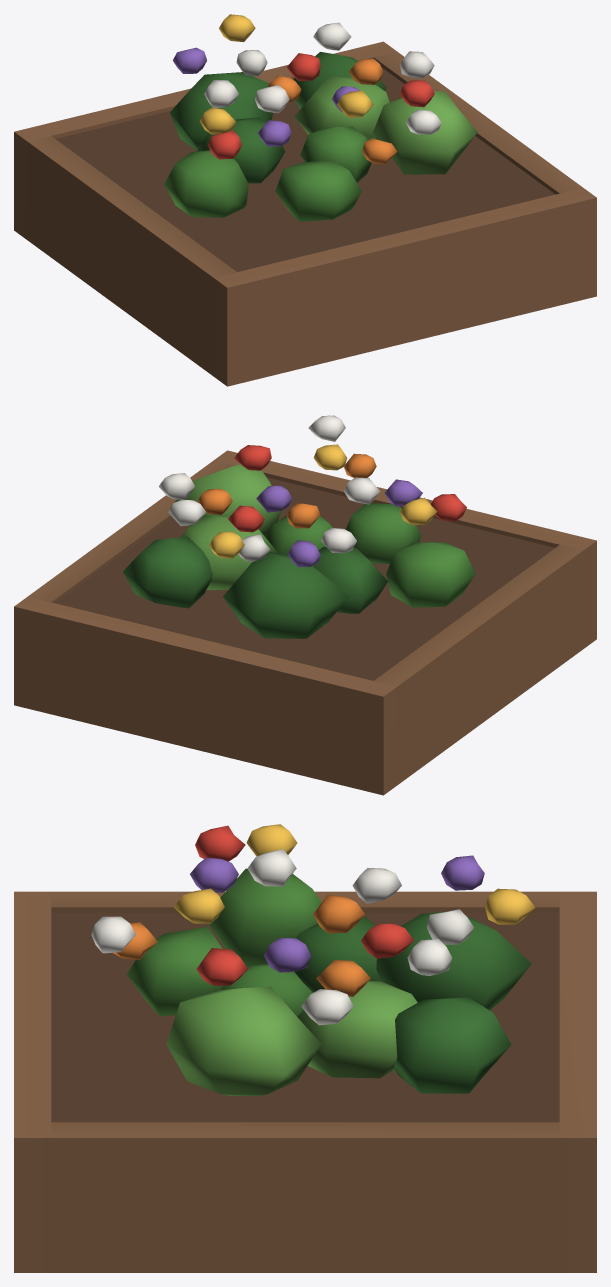
The model's file is flowerbed.far.glb.
3 renders of one model, top to bottom at view 1: azimuth 30°, elevation 25°; view 2: azimuth 150°, elevation 25°; view 3: azimuth 270°, elevation 25°, orthographic. The views are drawn at different scales.
Visible parts, largest first — view 1: flowerbed; view 2: flowerbed; view 3: flowerbed.
Boxes of the visible parts, x1,y1,x2,y2 form: flowerbed: [14, 14, 596, 386]; flowerbed: [14, 415, 596, 795]; flowerbed: [14, 824, 596, 1272].
Bounding box in the file's own units: 0.94 × 0.4747 × 0.94.
